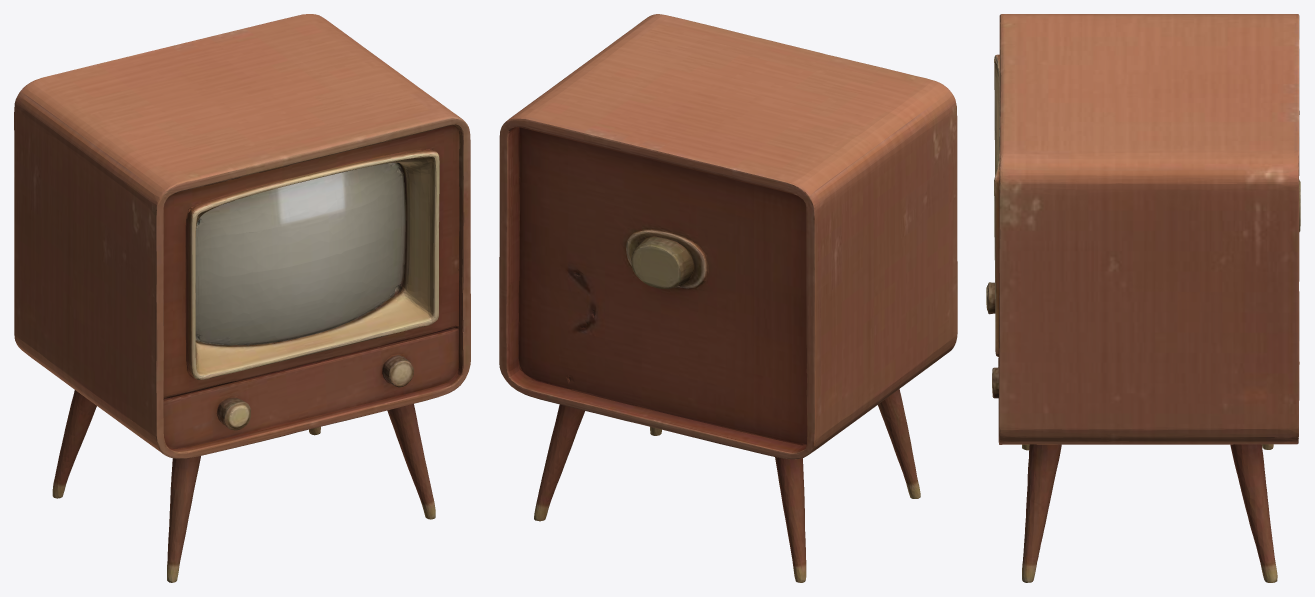
The model's file is tvset.glb.
3 views of the same model, side by side, from view 1: azimuth 30°, elevation 25°; view 2: azimuth 150°, elevation 25°; view 3: azimuth 270°, elevation 25° (orthographic). The views are drawn at different scales.
Parts seen in each view (by area): view 1: geometry_0; view 2: geometry_0; view 3: geometry_0.
Boxes of the visible parts, box(x1,y1,x2,y2) form: geometry_0: box(14, 14, 470, 582); geometry_0: box(499, 14, 957, 582); geometry_0: box(986, 14, 1300, 582).
Bounding box in the file's own units: 0.8067 × 1 × 0.6629.
Materials: 1 (1 with a texture image).
